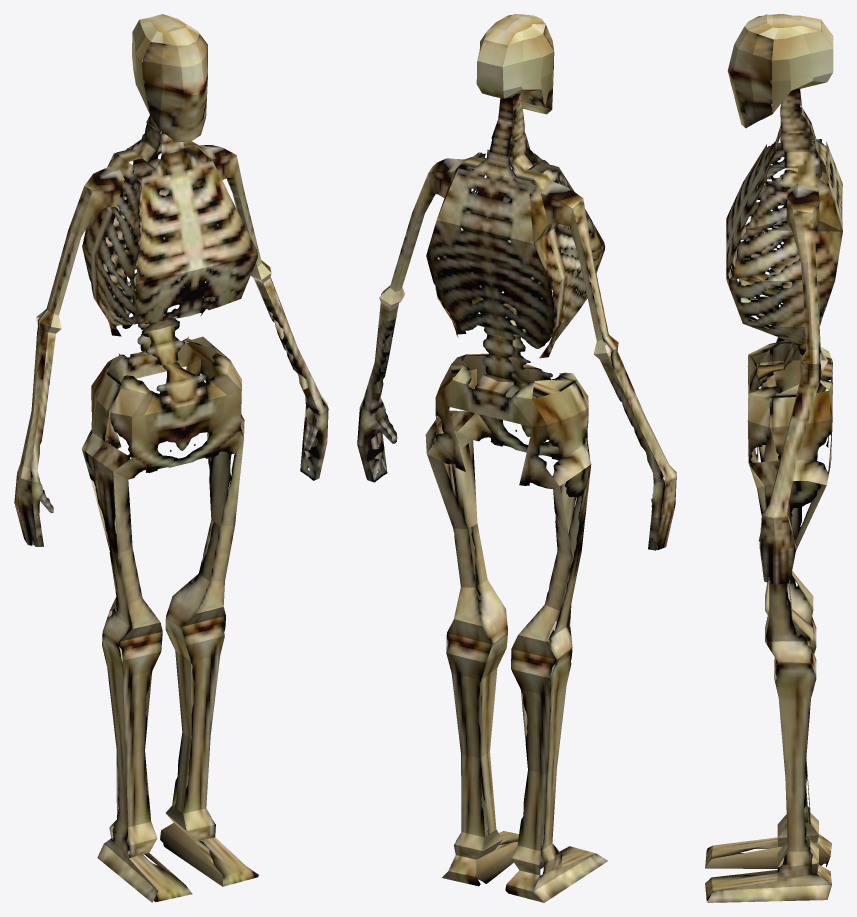
File: skeleton.obj
The picture shows the model from 3 angles, left to right: view 1: azimuth 30°, elevation 25°; view 2: azimuth 150°, elevation 25°; view 3: azimuth 270°, elevation 25°; orthographic projection. The views are drawn at different scales.
Visible parts, largest first — view 1: Skeleton; view 2: Skeleton; view 3: Skeleton.
Boxes of the visible parts, bbox=[...] form: Skeleton: bbox=[14, 14, 328, 902]; Skeleton: bbox=[357, 14, 676, 902]; Skeleton: bbox=[705, 14, 842, 902].
Size of the model in its own units: 1.86 by 4.87 by 0.7098.
1 material, 1 textured.
